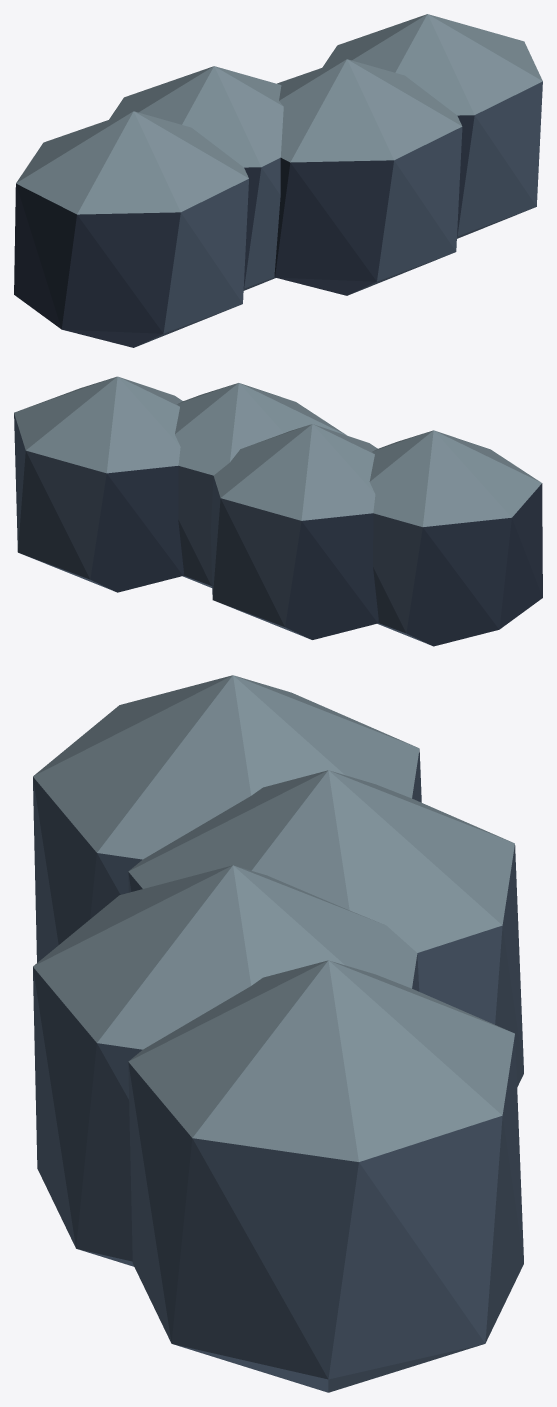
File: TW_VEG_BUSH_LONG_A_LOD0.glb
3 views of the same model, one above another, from view 1: azimuth 30°, elevation 25°; view 2: azimuth 150°, elevation 25°; view 3: azimuth 270°, elevation 25° (orthographic). The views are drawn at different scales.
Visible parts, largest first — view 1: TW_VEG_BUSH_LONG_A_LOD0; view 2: TW_VEG_BUSH_LONG_A_LOD0; view 3: TW_VEG_BUSH_LONG_A_LOD0.
Part boxes in pixels (<box>): TW_VEG_BUSH_LONG_A_LOD0: <box>14,14,542,347</box>; TW_VEG_BUSH_LONG_A_LOD0: <box>14,376,542,646</box>; TW_VEG_BUSH_LONG_A_LOD0: <box>33,675,523,1392</box>.
Bounding box in the file's own units: 1.63 × 0.7 × 0.7208.
1 material, 1 textured.
